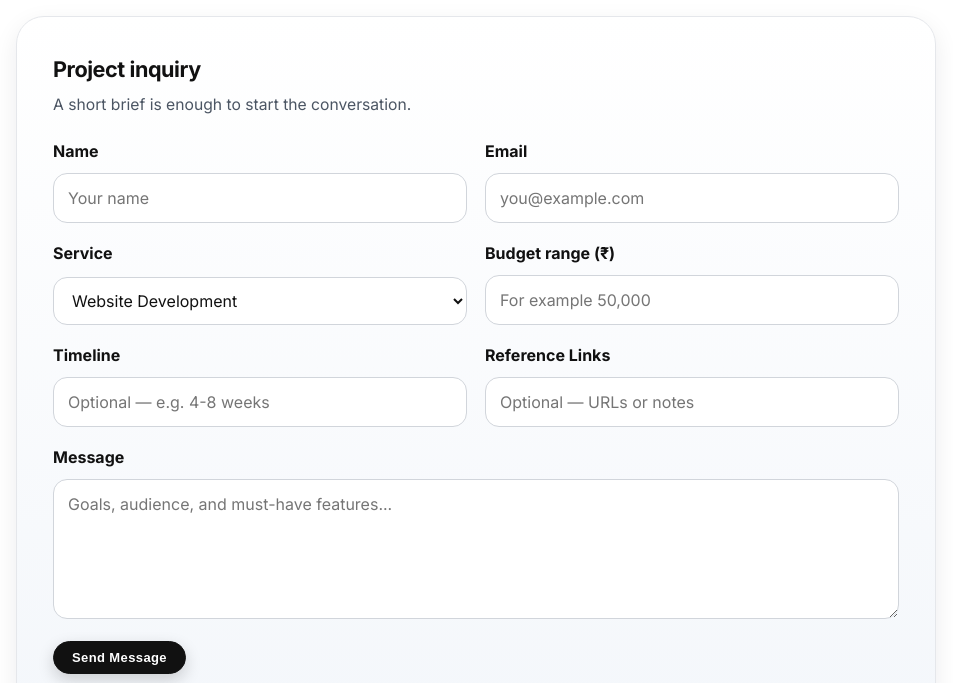
ContactPage › sanitizes budget input to digits and commas (₹-style amounts)
(page scrolled)
Type "₹50k and change" into the field labelled "Budget range (₹)".
click(692, 300); type("₹50k and change")  # box [485,275,899,325]
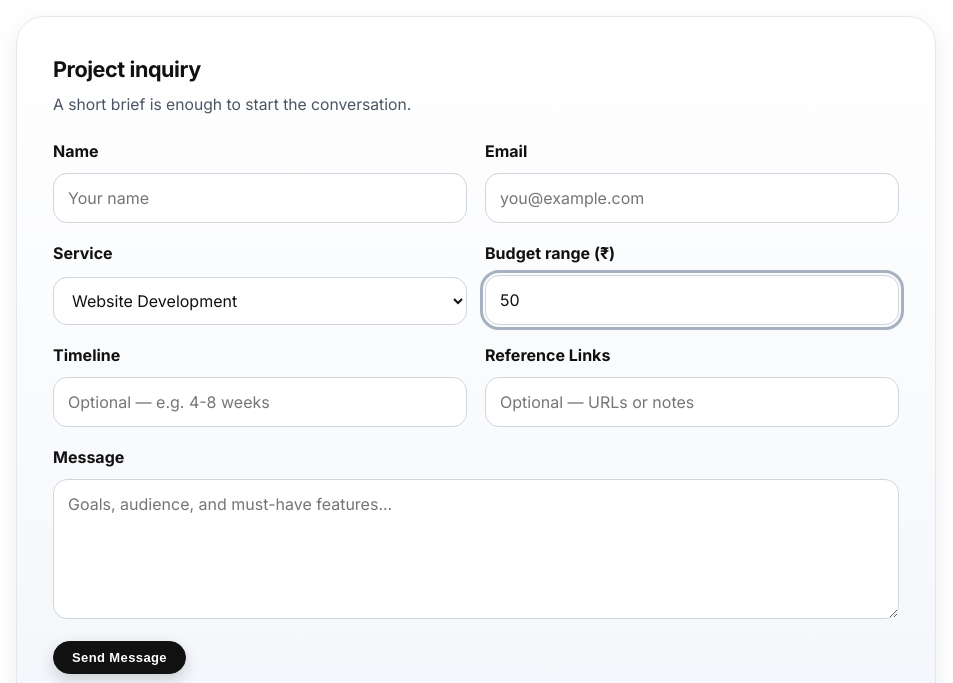
Expected: the field labelled "Budget range (₹)" holds "50", [485,275,899,325]
